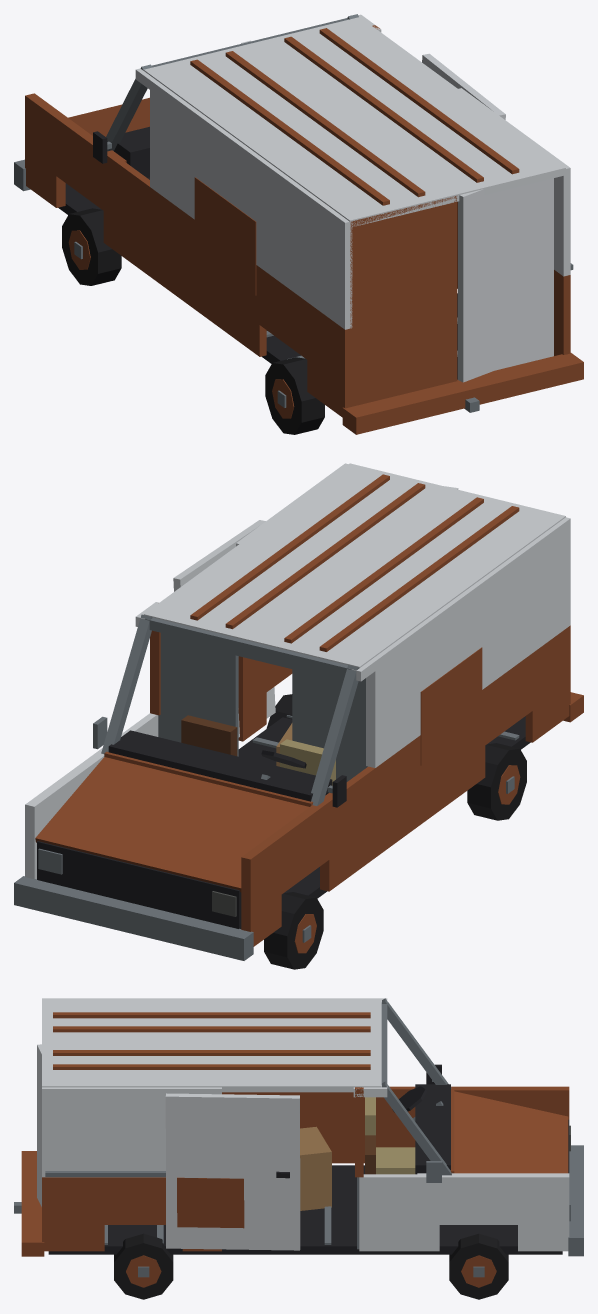
File: car_wreck_van.glb
The picture shows the model from 3 angles, top to bottom: view 1: azimuth 30°, elevation 25°; view 2: azimuth 150°, elevation 25°; view 3: azimuth 270°, elevation 25°; orthographic projection. The views are drawn at different scales.
Parts seen in each view (by area): view 1: car_wreck_van; view 2: car_wreck_van; view 3: car_wreck_van.
Boxes of the visible parts, left/top/right/bottom form: car_wreck_van: left=14, top=14, right=583, bottom=434; car_wreck_van: left=14, top=463, right=583, bottom=969; car_wreck_van: left=14, top=998, right=583, bottom=1299.
Size of what is drawn, in the model's own units: 2.13 by 2.12 by 5.1.
2 materials, 2 textured.
